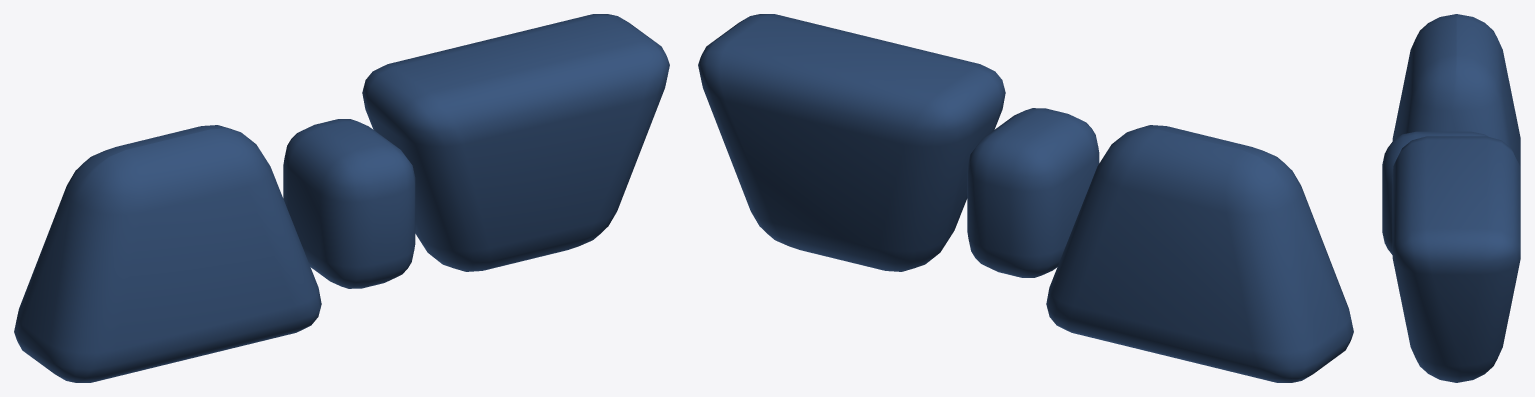
Rendered from part_bowtie.glb.
The picture shows the model from 3 angles, left to right: view 1: azimuth 30°, elevation 25°; view 2: azimuth 150°, elevation 25°; view 3: azimuth 270°, elevation 25°; orthographic projection. The views are drawn at different scales.
Visible parts, largest first — view 1: Bow_Wing_L, Bow_Wing_R, Bow_Knot; view 2: Bow_Wing_L, Bow_Wing_R, Bow_Knot; view 3: Bow_Wing_R, Bow_Wing_L, Bow_Knot.
Part boxes in pixels (<box>): Bow_Wing_L: <box>14,125,321,382</box>; Bow_Wing_R: <box>362,14,669,271</box>; Bow_Knot: <box>283,119,415,288</box>; Bow_Wing_L: <box>1046,125,1353,382</box>; Bow_Wing_R: <box>698,14,1005,271</box>; Bow_Knot: <box>967,108,1099,277</box>; Bow_Wing_R: <box>1392,136,1520,382</box>; Bow_Wing_L: <box>1392,14,1520,173</box>; Bow_Knot: <box>1382,131,1487,254</box>.
Bounding box in the file's own units: 0.4774 × 0.15 × 0.1069.
